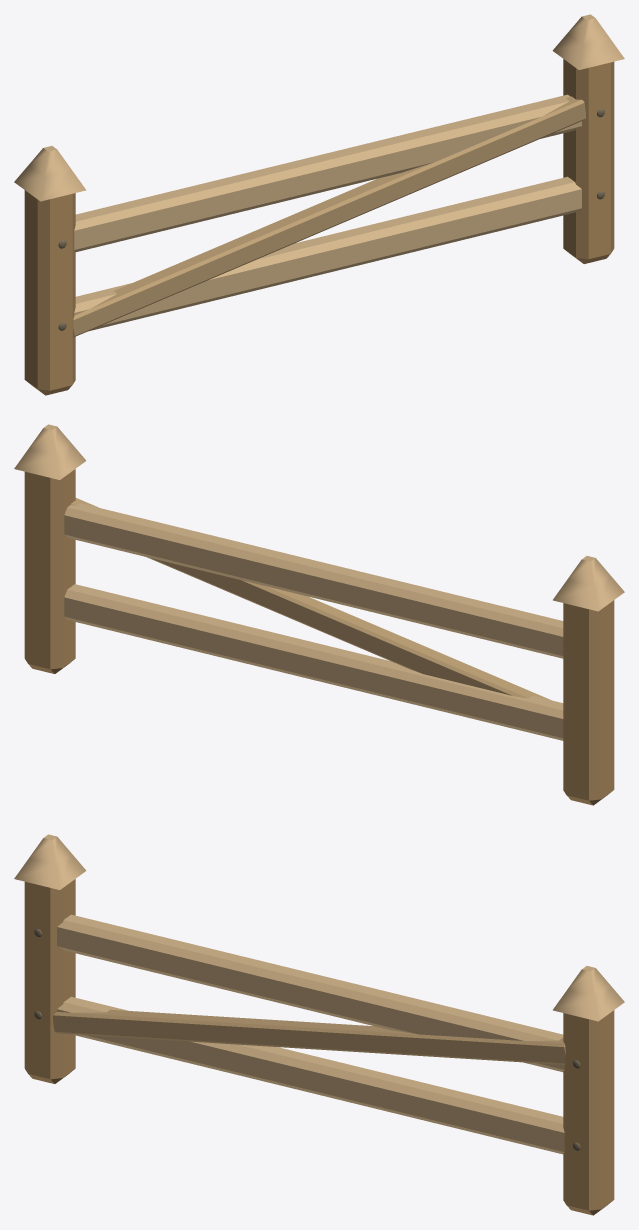
The model's file is garden_fence.glb.
3 views of the same model, one above another, from view 1: azimuth 30°, elevation 25°; view 2: azimuth 150°, elevation 25°; view 3: azimuth 330°, elevation 25° (orthographic).
Parts seen in each view (by area): view 1: _MeshInstance3D_1010, HorizontalRail, DiagonalBrace, FencePost, _MeshInstance3D_1008, PostCap, _MeshInstance3D_1009; view 2: _MeshInstance3D_1010, HorizontalRail, FencePost, _MeshInstance3D_1008, DiagonalBrace, PostCap, _MeshInstance3D_1009; view 3: _MeshInstance3D_1010, HorizontalRail, DiagonalBrace, _MeshInstance3D_1008, FencePost, _MeshInstance3D_1009, PostCap.
Boxes of the visible parts, x1,y1,x2,y2 form: _MeshInstance3D_1010: (74,94,581,251); HorizontalRail: (74,176,581,330); DiagonalBrace: (73,96,585,336); FencePost: (24,190,75,395); _MeshInstance3D_1008: (563,59,614,263); PostCap: (14,146,85,201); _MeshInstance3D_1009: (552,14,624,69); _MeshInstance3D_1010: (64,503,563,658); HorizontalRail: (64,584,563,740); FencePost: (563,600,614,805); _MeshInstance3D_1008: (24,469,75,673); DiagonalBrace: (70,498,550,699); PostCap: (553,556,624,611); _MeshInstance3D_1009: (14,424,86,479); _MeshInstance3D_1010: (57,914,564,1071); HorizontalRail: (57,996,564,1154); DiagonalBrace: (53,1009,565,1064); _MeshInstance3D_1008: (563,1010,614,1215); FencePost: (24,879,75,1083); _MeshInstance3D_1009: (553,966,624,1021); PostCap: (14,834,86,889).
Size of the model in its own units: 2.61 by 1.02 by 0.2051.
